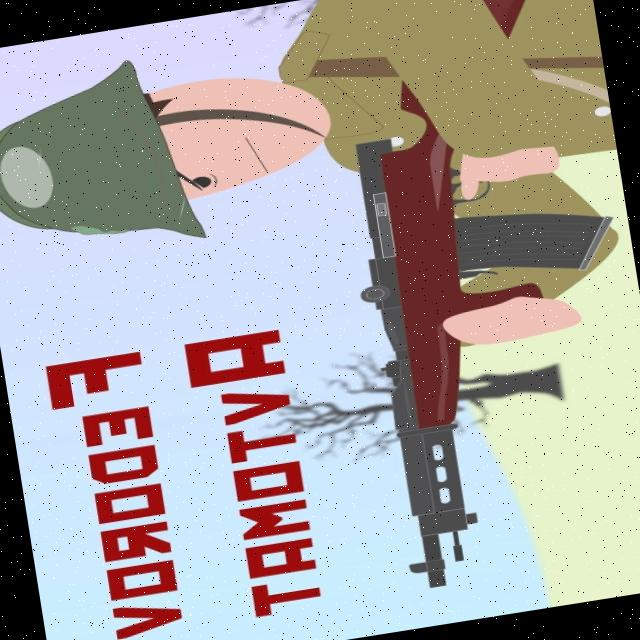Automaticrifle: (313, 0, 640, 594)
